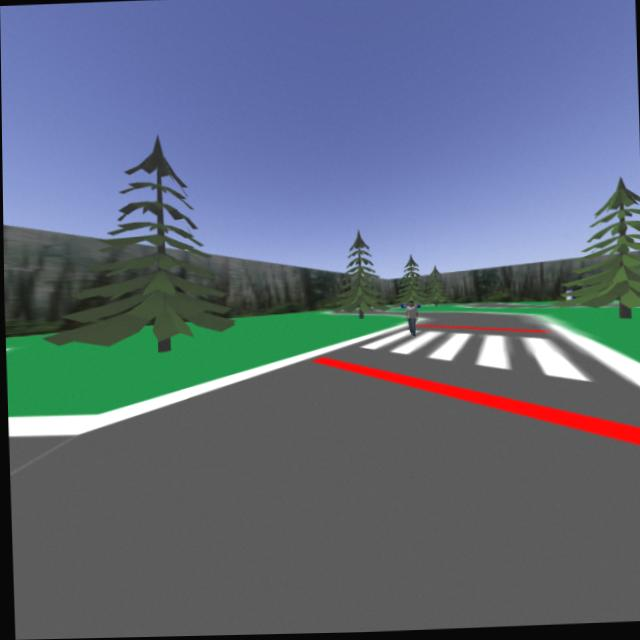pedestrian: (404, 297, 421, 338)
